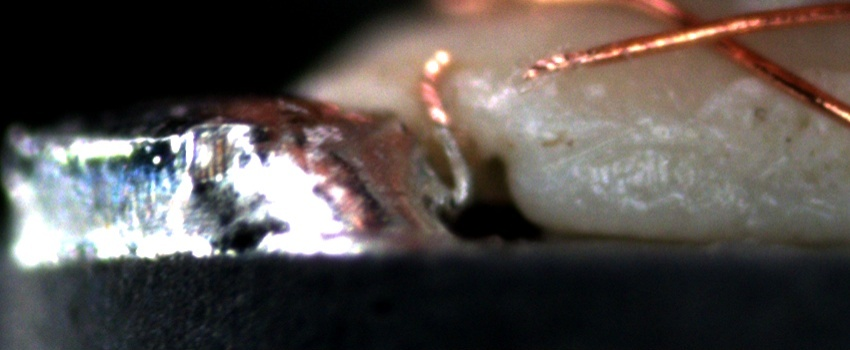CL: (648, 9, 770, 56)
DL: (522, 118, 707, 167)
